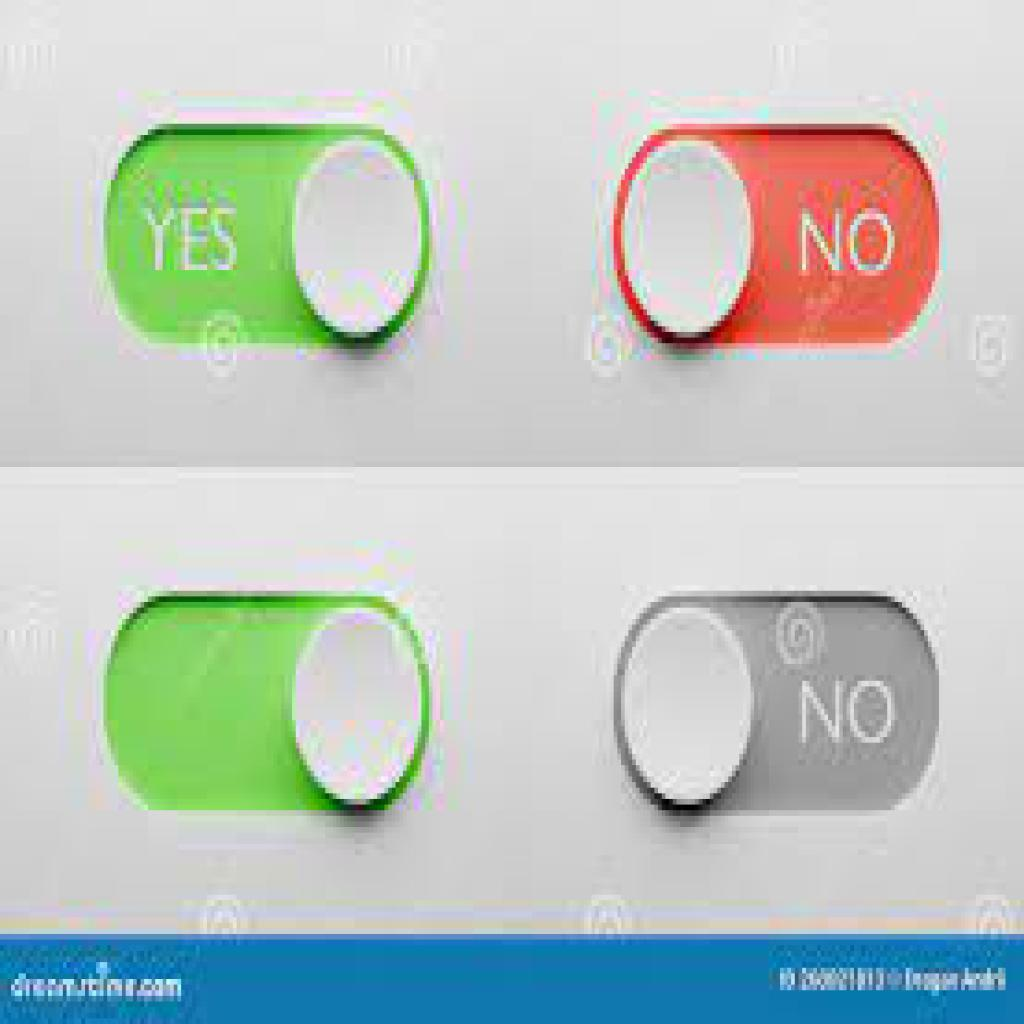switch: (101, 122, 433, 352), (612, 127, 944, 352), (612, 593, 944, 816), (106, 592, 433, 816)
